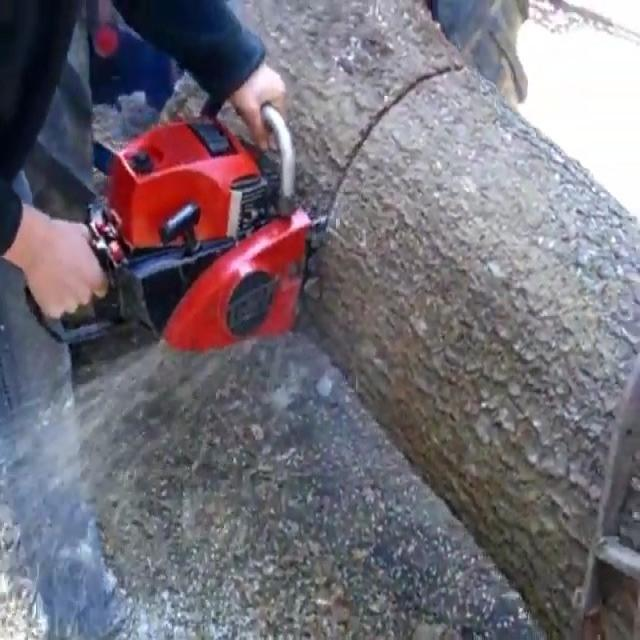Chainsaw: (7, 91, 350, 381)
